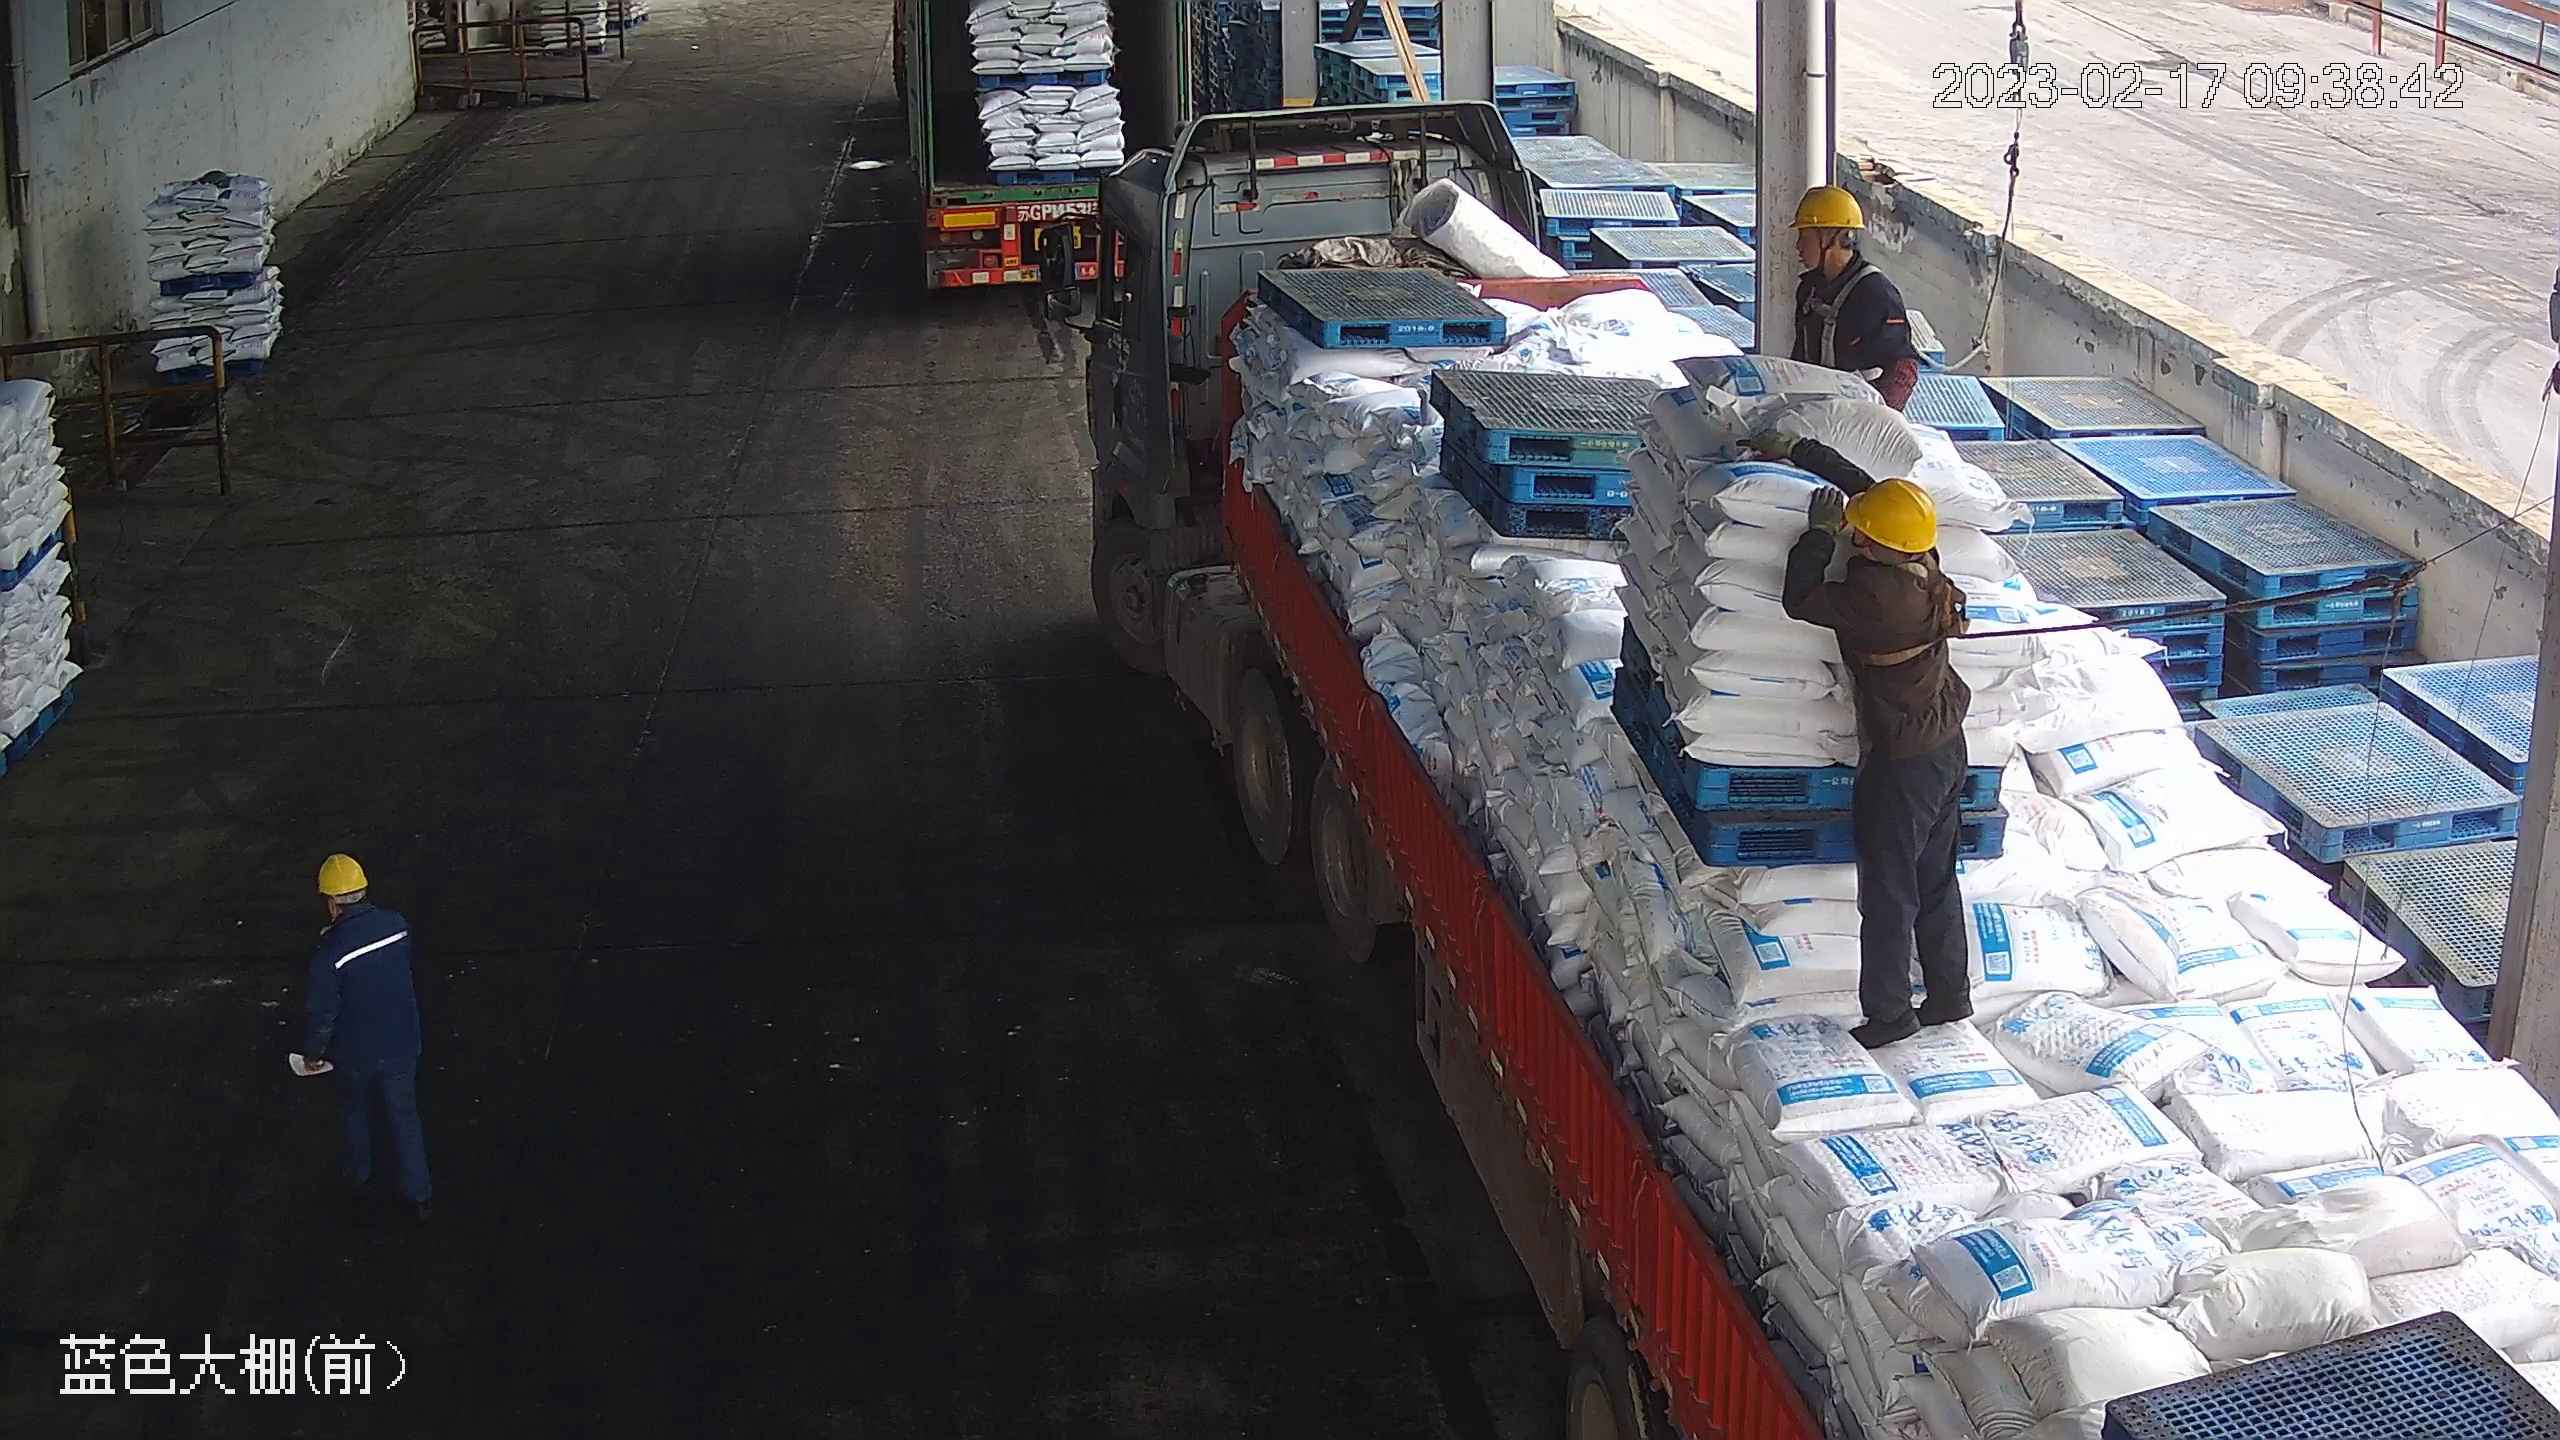belt: (1863, 551, 1972, 665), (1812, 264, 1882, 330)
head: (1818, 472, 1956, 618), (1786, 182, 1906, 324), (303, 852, 415, 966)
helmet: (1842, 472, 1941, 555), (1790, 182, 1865, 233), (310, 851, 370, 895)
people: (1781, 471, 1979, 1044), (291, 850, 437, 1214)
truck: (1045, 103, 2558, 1440), (890, 1, 1186, 291)
